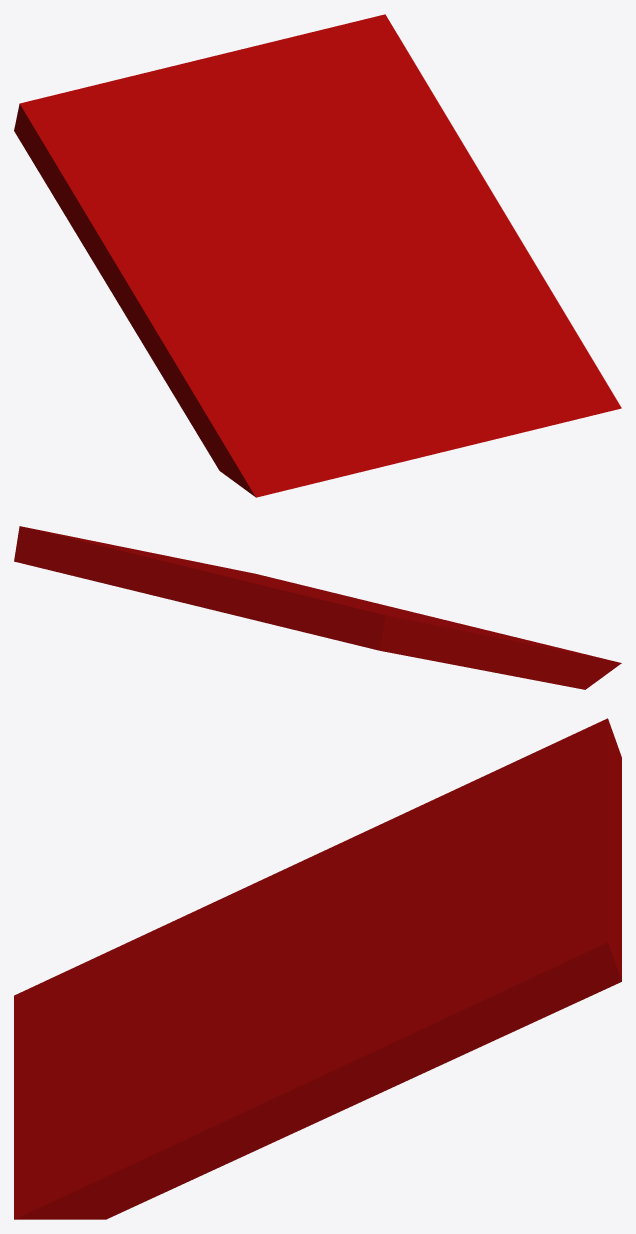
Rendered from SM_Env_Stairs_01_Collision.glb.
3 views of the same model, one above another, from view 1: azimuth 30°, elevation 25°; view 2: azimuth 150°, elevation 25°; view 3: azimuth 270°, elevation 25° (orthographic). The views are drawn at different scales.
Parts seen in each view (by area): view 1: SM_Env_Stairs_01_Collision; view 2: SM_Env_Stairs_01_Collision; view 3: SM_Env_Stairs_01_Collision.
Boxes of the visible parts, box(x1,y1,x2,y2) form: SM_Env_Stairs_01_Collision: box(14, 14, 621, 497); SM_Env_Stairs_01_Collision: box(14, 526, 621, 689); SM_Env_Stairs_01_Collision: box(14, 718, 621, 1219).
Size of the model in its own units: 4.96 by 2.86 by 5.69.
